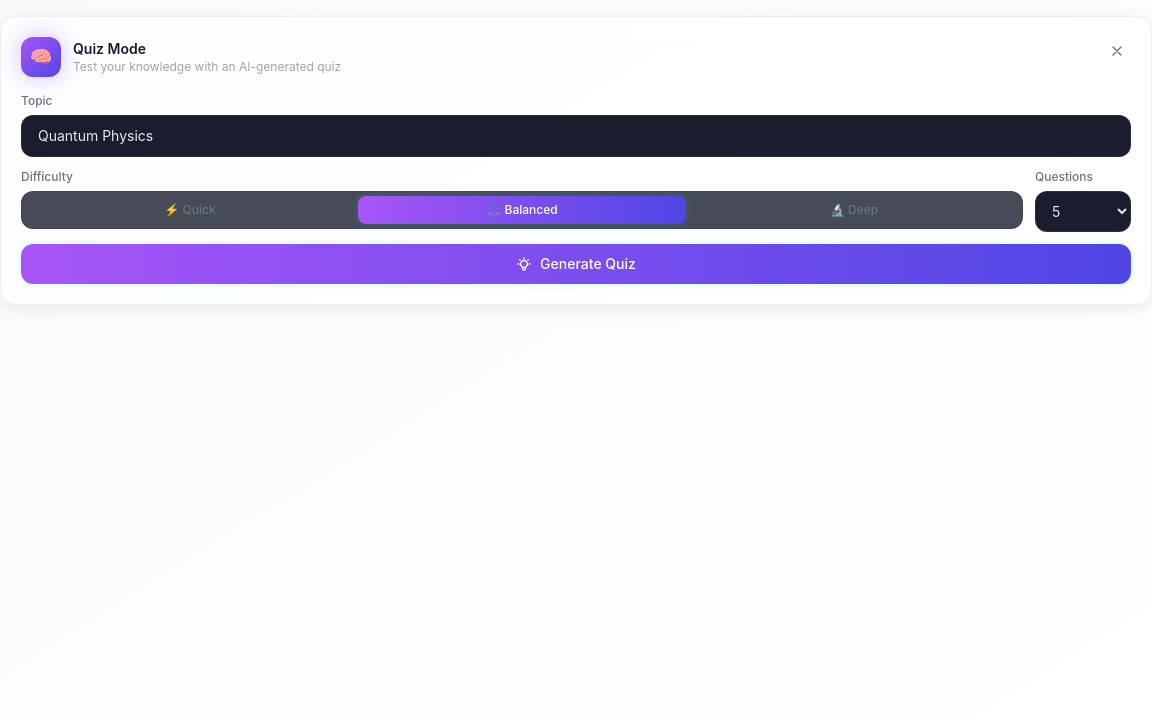
Scenario: QuizView › shows the generated quiz topic in the header
What coordinates should you click on to do the following:
click the button "Generate Quiz"
I would click on:
 (576, 264)
Its box is [21,244,1131,284].
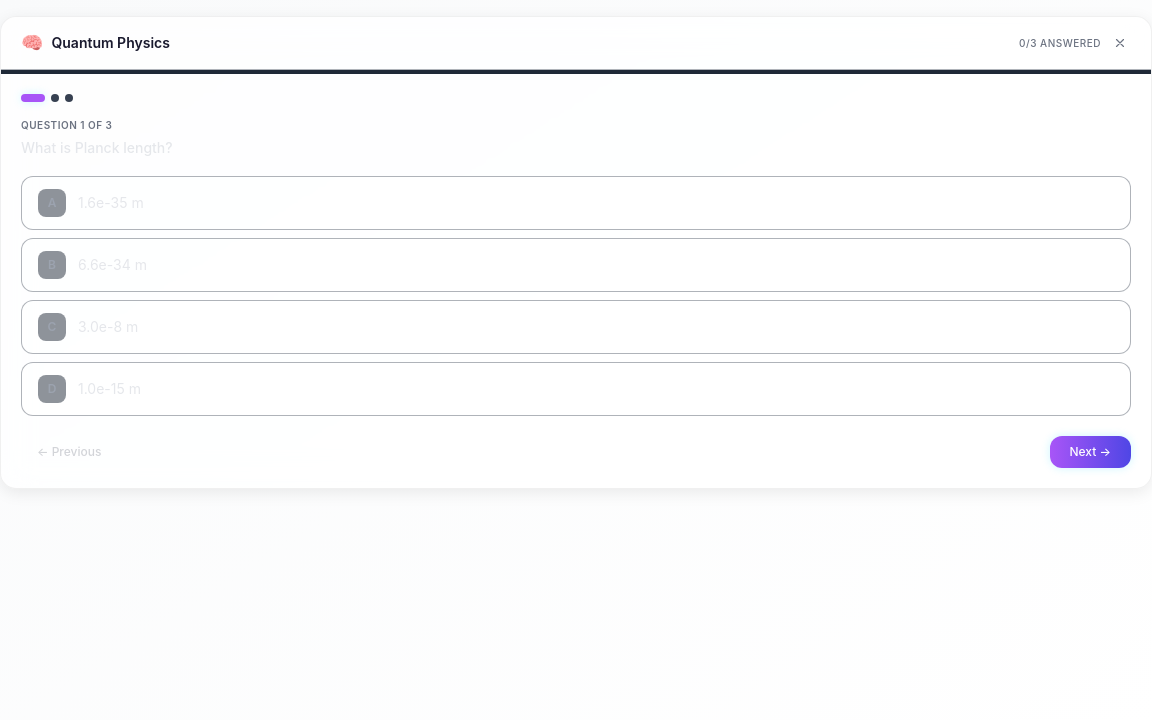
Expected: the text "Quantum Physics" is shown, [52,33,170,53]
